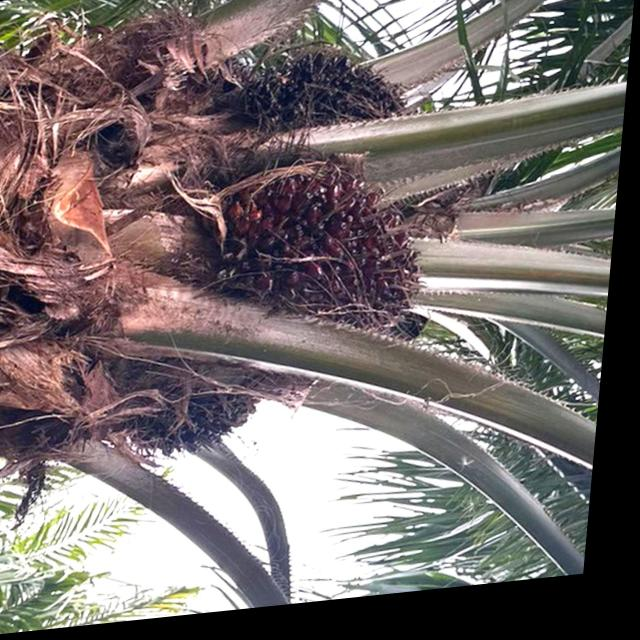ripe: (212, 146, 456, 363)
